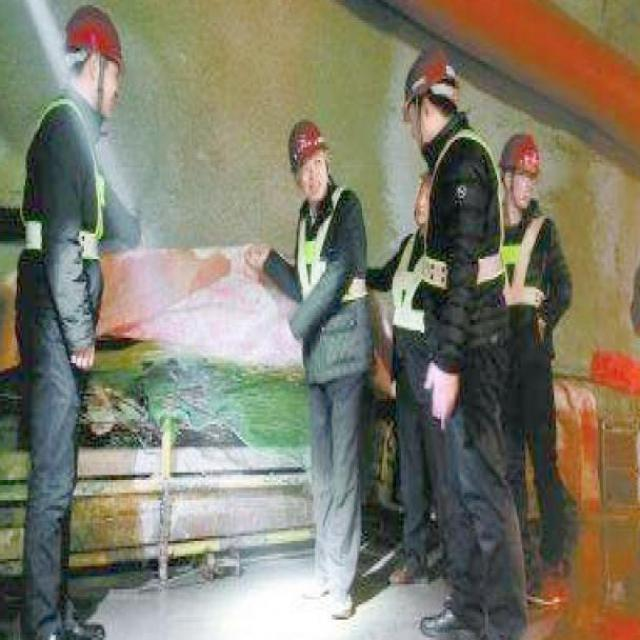helmet: (52, 0, 136, 130), (397, 36, 465, 147), (495, 107, 554, 218), (274, 110, 338, 203)
